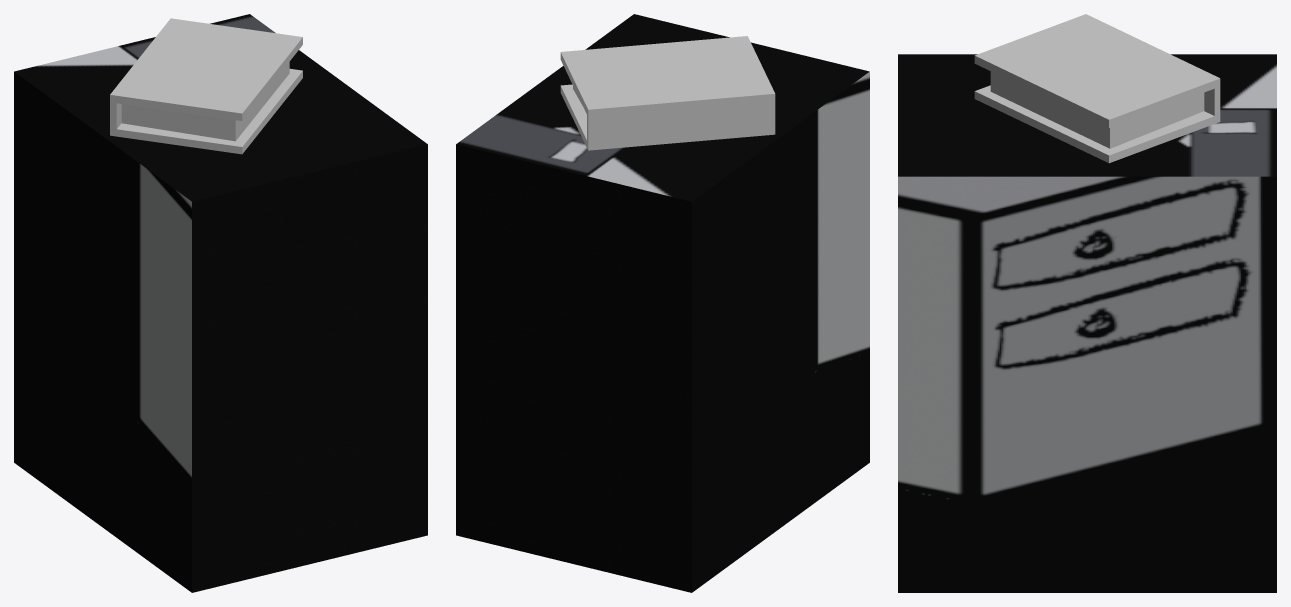
The model's file is Drawer.fbx.
3 views of the same model, side by side, from view 1: azimuth 30°, elevation 25°; view 2: azimuth 150°, elevation 25°; view 3: azimuth 270°, elevation 25° (orthographic). The views are drawn at different scales.
Visible parts, largest first — view 1: Drawer; view 2: Drawer; view 3: Drawer.
Boxes of the visible parts, <box> form: Drawer: <box>14,14,427,592</box>; Drawer: <box>456,14,869,592</box>; Drawer: <box>898,14,1276,592</box>.
Size of the model in its own units: 89.86 by 157 by 118.
